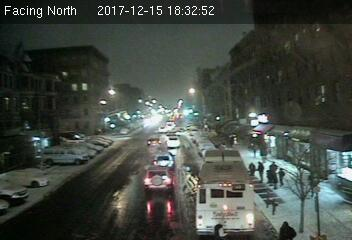bus: (195, 147, 258, 233)
car: (143, 166, 173, 192), (150, 151, 176, 169), (146, 137, 162, 148)
pedestrian: (259, 161, 265, 183)
